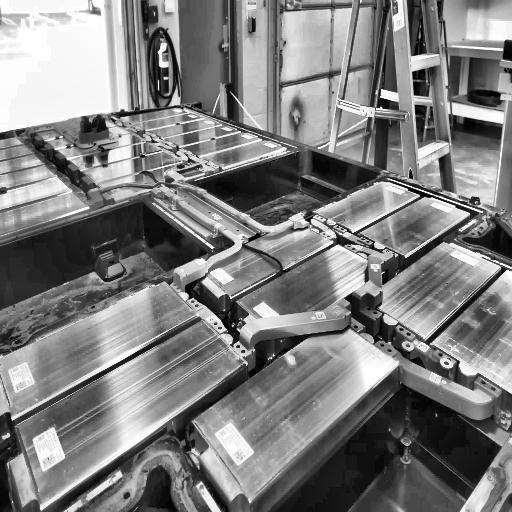battery_module: (15, 319, 246, 511), (193, 316, 400, 504), (0, 281, 200, 419), (237, 245, 386, 340), (366, 241, 500, 338), (199, 218, 334, 298), (357, 196, 470, 261), (310, 182, 419, 234)
busbar: (148, 155, 507, 423), (106, 105, 225, 176), (19, 124, 109, 211)
connector: (76, 110, 113, 146)
